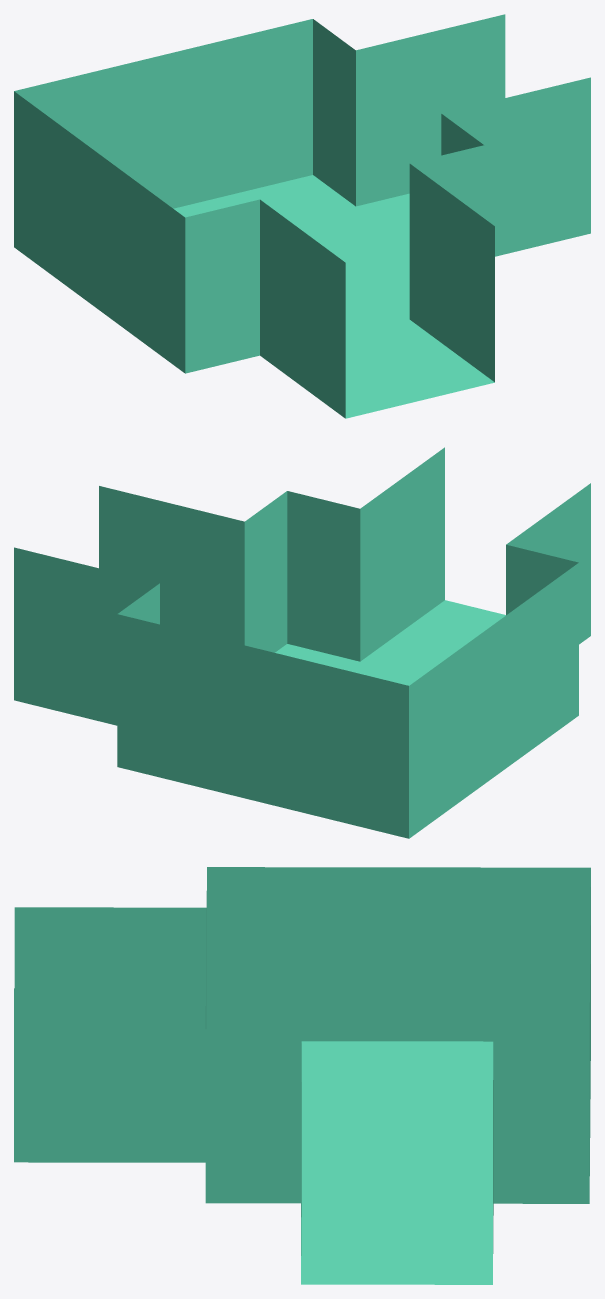
Rendered from L_room_90.glb.
3 renders of one model, top to bottom at view 1: azimuth 30°, elevation 25°; view 2: azimuth 150°, elevation 25°; view 3: azimuth 270°, elevation 25°, orthographic. The views are drawn at different scales.
Parts seen in each view (by area): view 1: L_room_90; view 2: L_room_90; view 3: L_room_90.
Boxes of the visible parts, x1,y1,x2,y2 form: L_room_90: (14, 14, 590, 418); L_room_90: (14, 447, 590, 838); L_room_90: (14, 867, 590, 1284).
Bounding box in the file's own units: 3.01 × 1 × 3.01.
